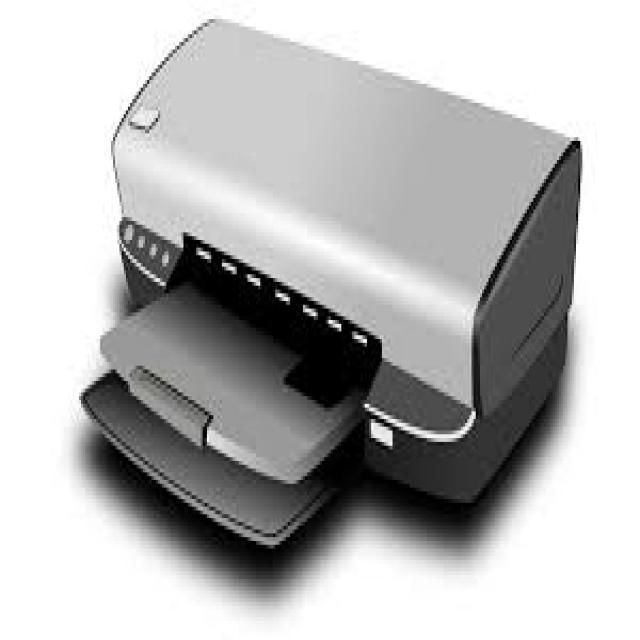printer: (79, 11, 582, 548)
